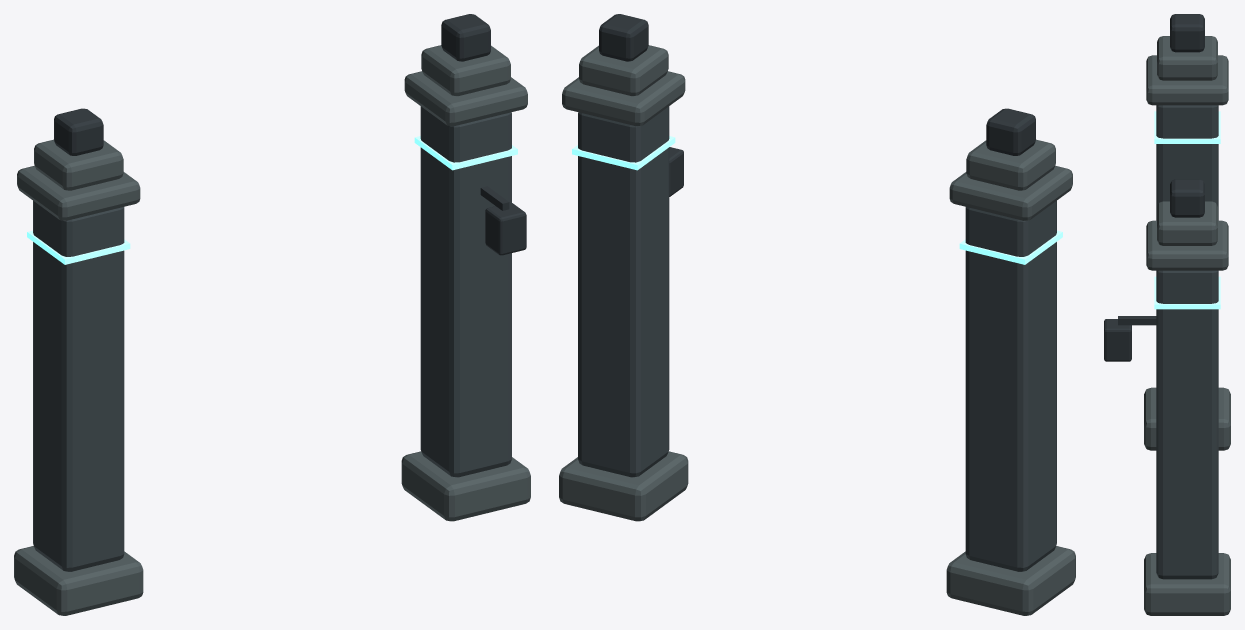
The model's file is wind_stone_gate_posts.glb.
3 views of the same model, side by side, from view 1: azimuth 30°, elevation 25°; view 2: azimuth 150°, elevation 25°; view 3: azimuth 270°, elevation 25° (orthographic). The views are drawn at different scales.
Visible parts, largest first — view 1: WindGate_Posts; view 2: WindGate_Posts; view 3: WindGate_Posts.
Boxes of the visible parts, bbox=[...] form: WindGate_Posts: bbox=[14, 14, 530, 615]; WindGate_Posts: bbox=[559, 14, 1075, 615]; WindGate_Posts: bbox=[1104, 14, 1230, 615].
Bounding box in the file's own units: 5.5 × 5.28 × 1.46.
